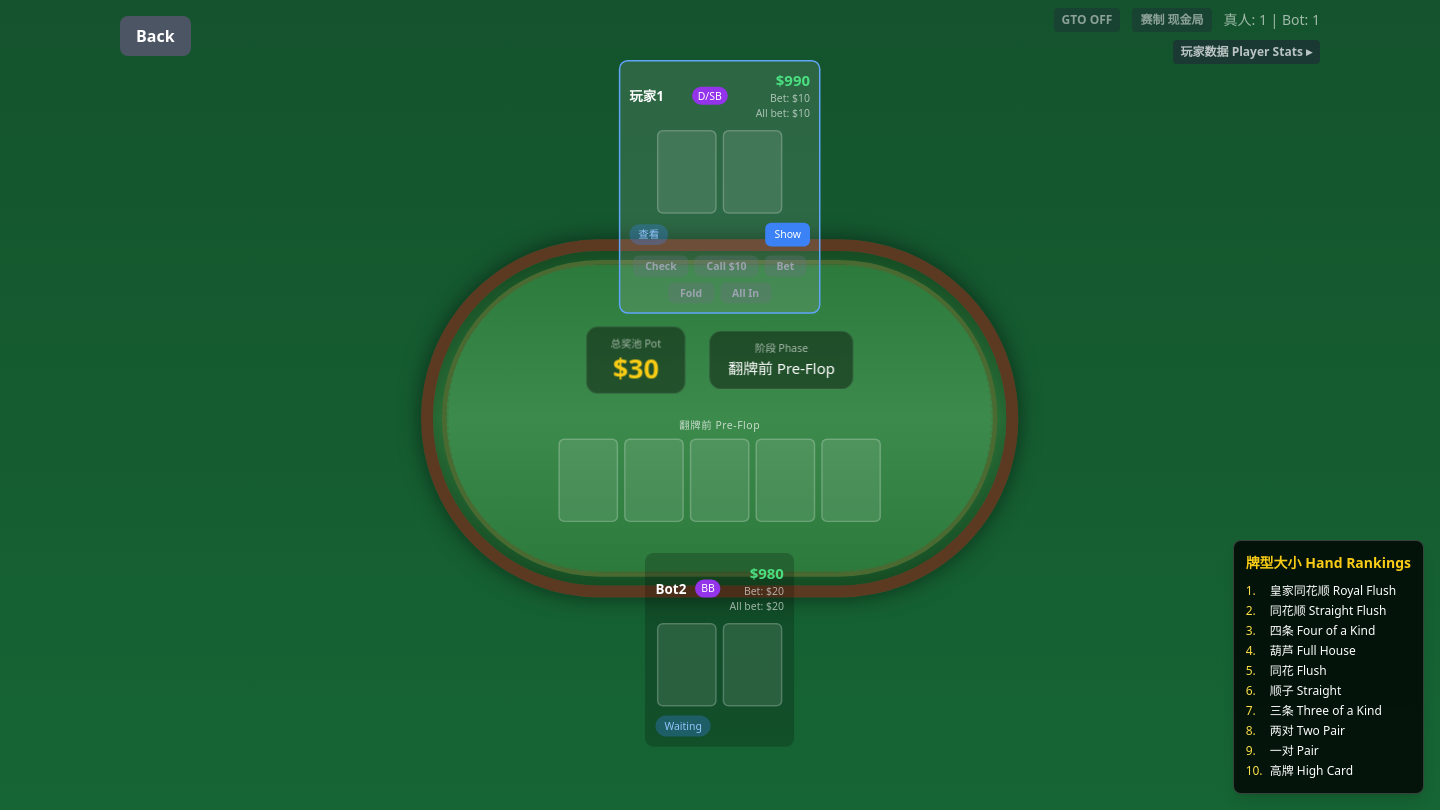
Test case: GameBoard 右上角「玩家数据」浮层 › 默认收起只显示按钮；点击展开表格，再点收回
Expected: the text "VPIP" is not shown
// 展开：表头出现（VPIP 是表头第一列，只有表格渲染了才会有）
Click the button "玩家数据 Player Stats ▸".
click(1246, 52)  # box x1=1172 y1=40 x2=1320 y2=64
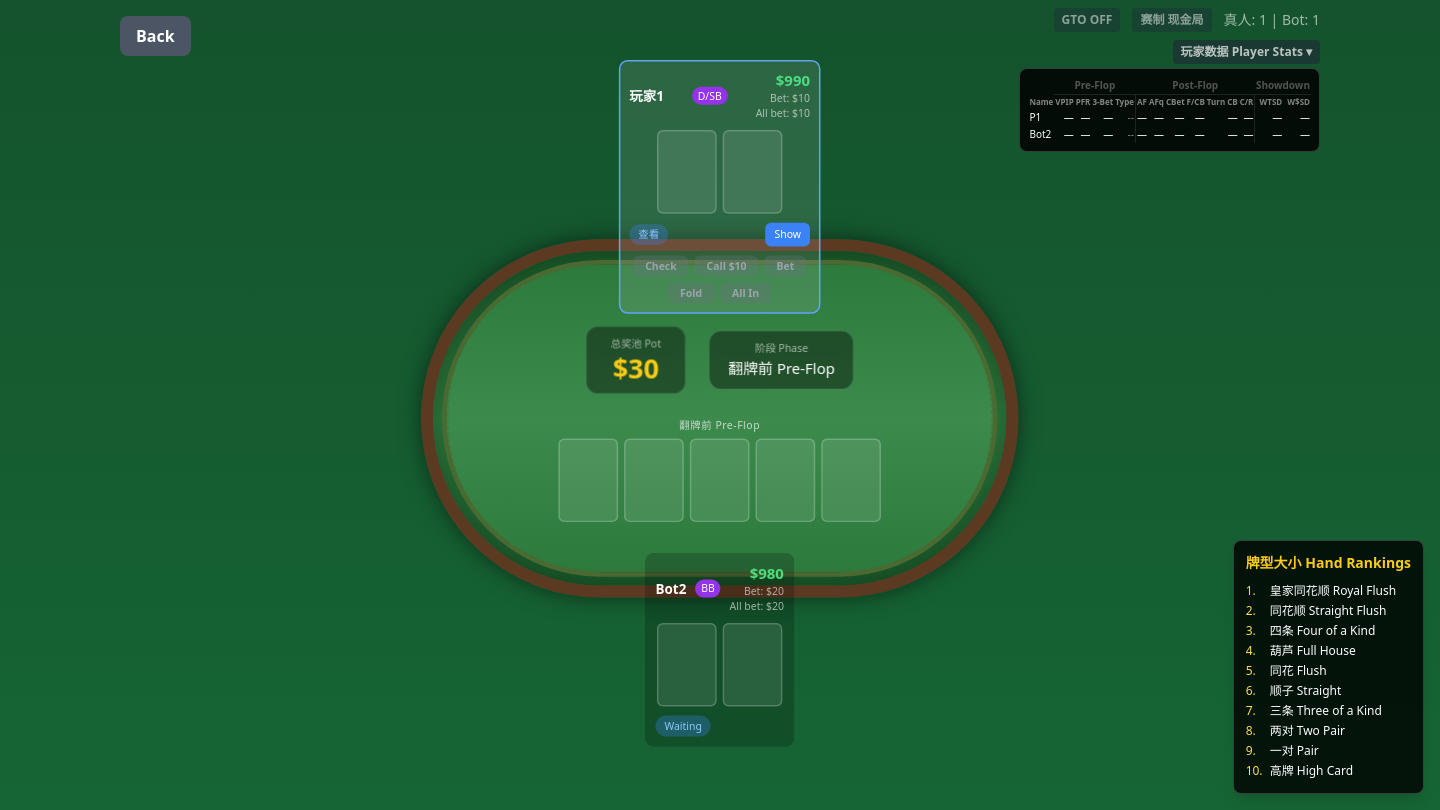
Now the button "玩家数据 Player Stats ▾" is expanded
Now the column heading "VPIP" is shown, box x1=1054 y1=94 x2=1075 y2=109
Now the text "Bot2" is shown, box x1=1028 y1=126 x2=1054 y2=143
// 再点收回：表格从 DOM 移除
Click the button "玩家数据 Player Stats ▾".
click(1246, 52)  # box x1=1172 y1=40 x2=1320 y2=64
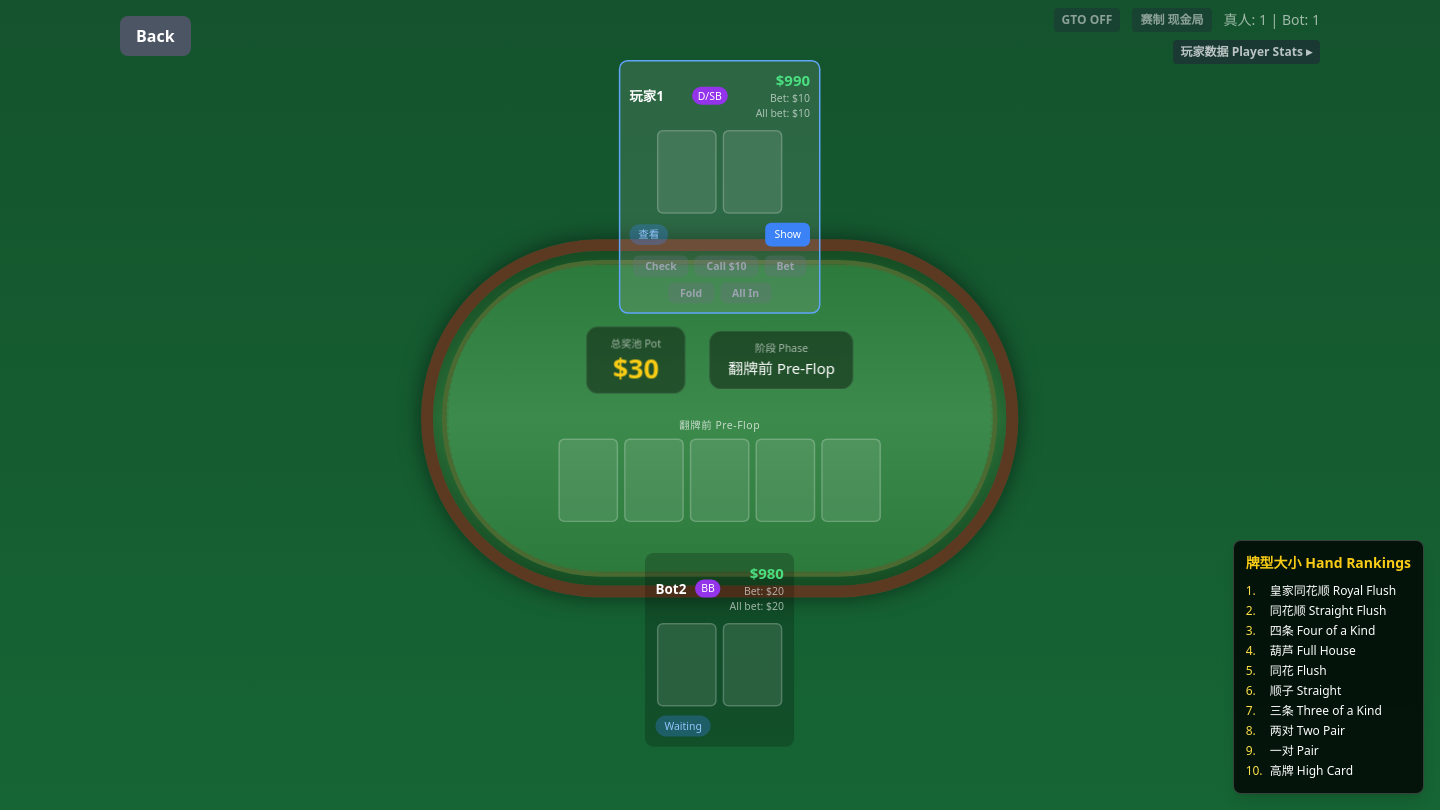
Now the button "玩家数据 Player Stats ▸" is collapsed, box x1=1172 y1=40 x2=1320 y2=64
Now the column heading "VPIP" is gone
